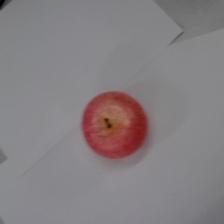red: (80, 89, 148, 160)
